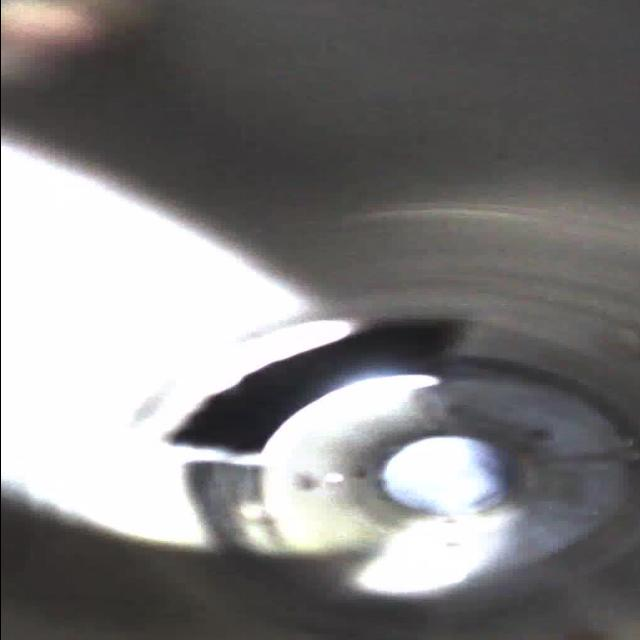hole: (149, 306, 485, 462)
